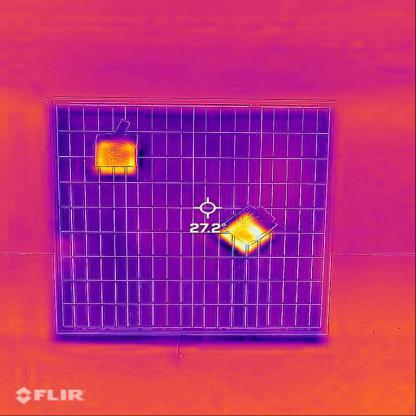anomaly: (212, 211, 275, 260), (86, 134, 141, 181)
